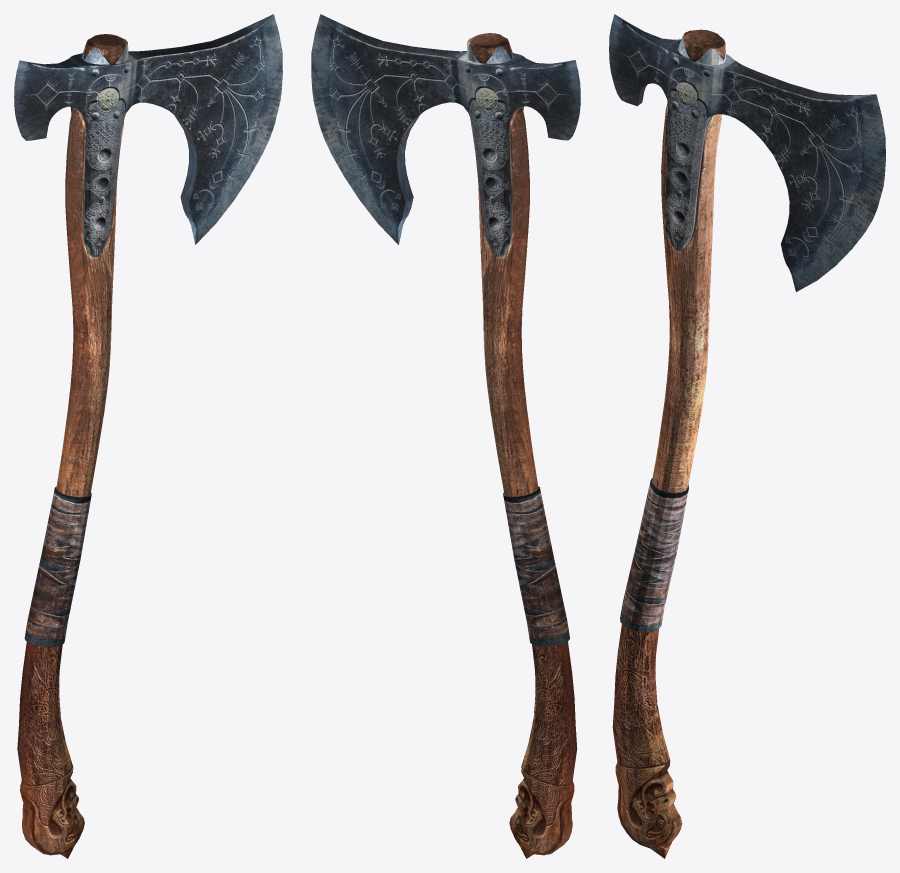
File: axe1.fbx
The picture shows the model from 3 angles, left to right: view 1: azimuth 30°, elevation 25°; view 2: azimuth 150°, elevation 25°; view 3: azimuth 330°, elevation 25°; orthographic projection. The views are drawn at different scales.
Visible parts, largest first — view 1: unnamed_1; view 2: unnamed_1; view 3: unnamed_1.
Part boxes in pixels (bbox=[...]): unnamed_1: bbox=[14, 14, 282, 858]; unnamed_1: bbox=[311, 14, 580, 858]; unnamed_1: bbox=[609, 14, 885, 858].
Size of the model in its own units: 36.87 by 106 by 4.67.
